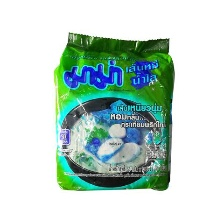snack: (45, 24, 184, 198)
